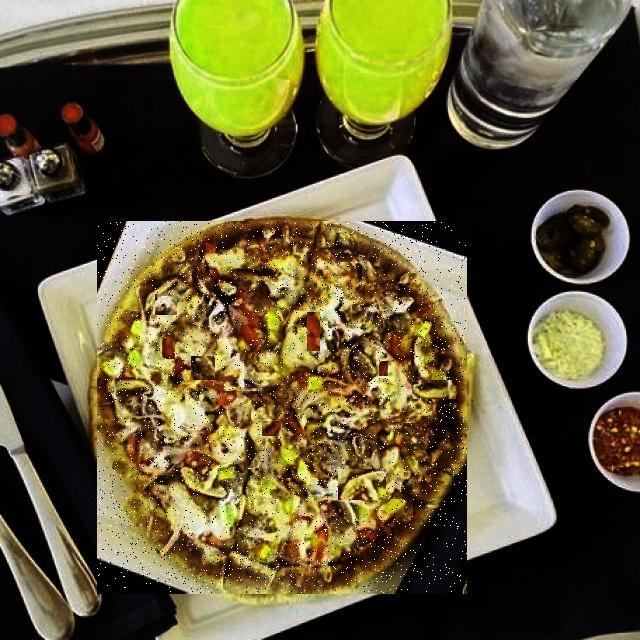Mushrooms: (338, 470, 386, 500), (412, 381, 457, 399), (191, 357, 215, 380), (136, 339, 150, 378), (155, 295, 177, 315)
Pizza: (97, 222, 467, 593)
Red Pepper: (307, 313, 320, 351), (162, 335, 175, 359), (262, 422, 281, 436), (365, 454, 379, 465), (380, 362, 390, 376), (349, 245, 359, 255)
